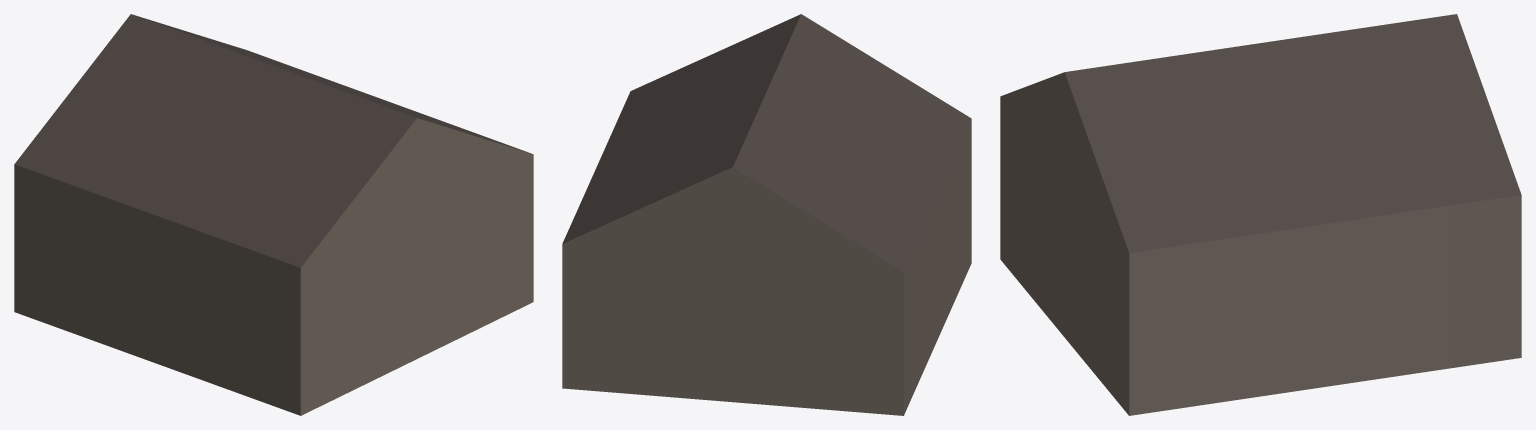
3 views of the same model, side by side, from view 1: azimuth 30°, elevation 25°; view 2: azimuth 150°, elevation 25°; view 3: azimuth 270°, elevation 25° (orthographic). The views are drawn at different scales.
Visible parts, largest first — view 1: HP-w1376988771; view 2: HP-w1376988771; view 3: HP-w1376988771.
Boxes of the visible parts, bbox=[...] form: HP-w1376988771: bbox=[14, 14, 533, 415]; HP-w1376988771: bbox=[562, 14, 971, 415]; HP-w1376988771: bbox=[1000, 14, 1521, 415].
Size of the model in its own units: 16.97 by 9.78 by 17.41.
